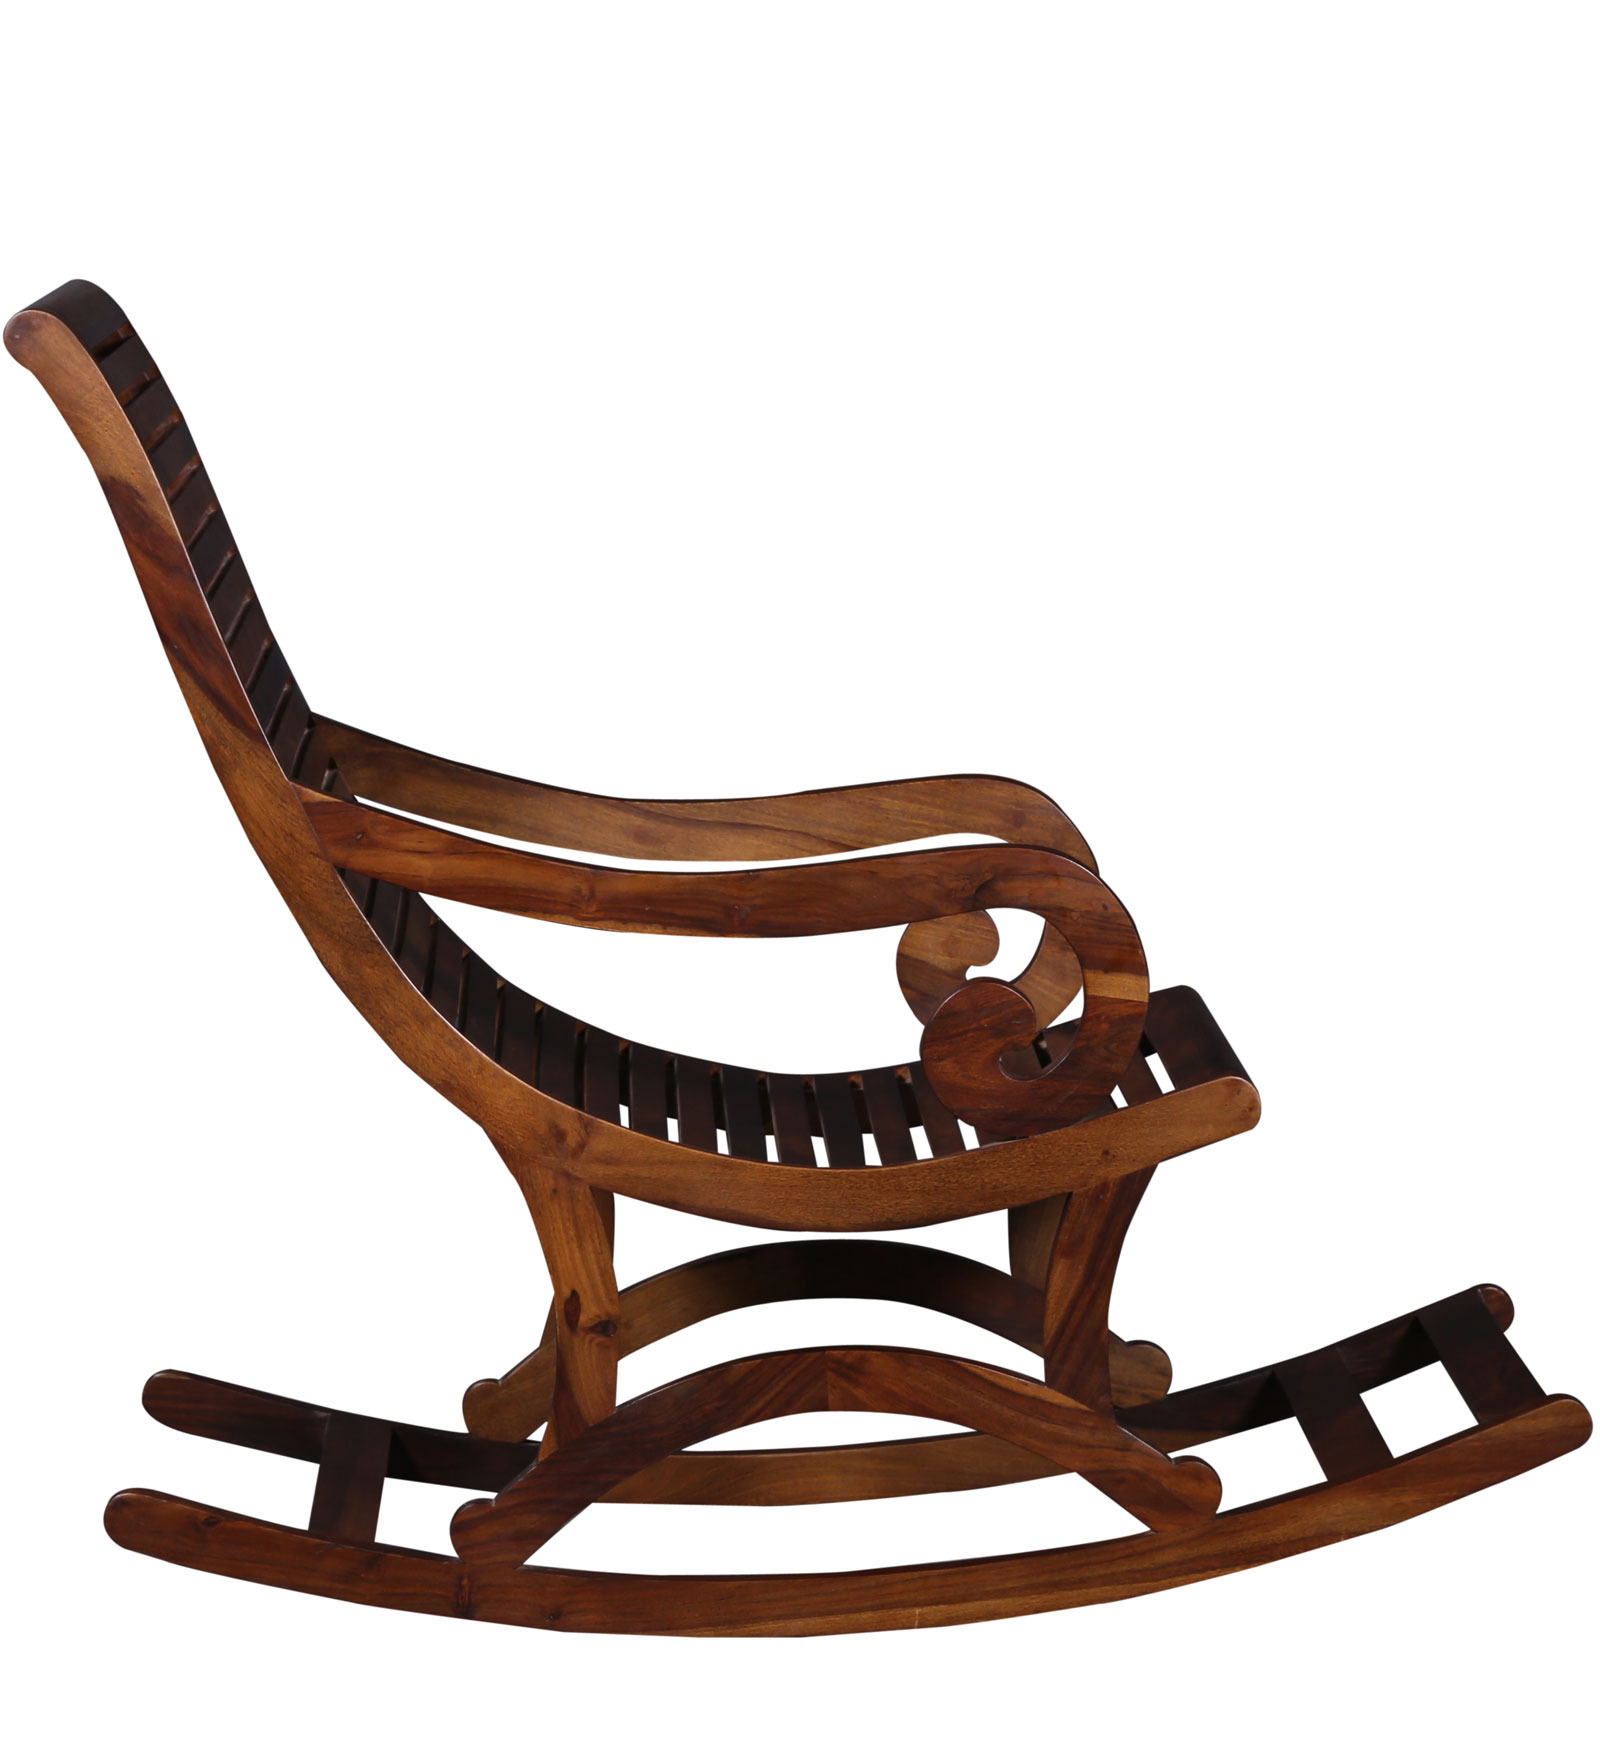Wellesley Rocking Chair in Provincial Teak Finish by Amberville: (14, 212, 1600, 1697)
